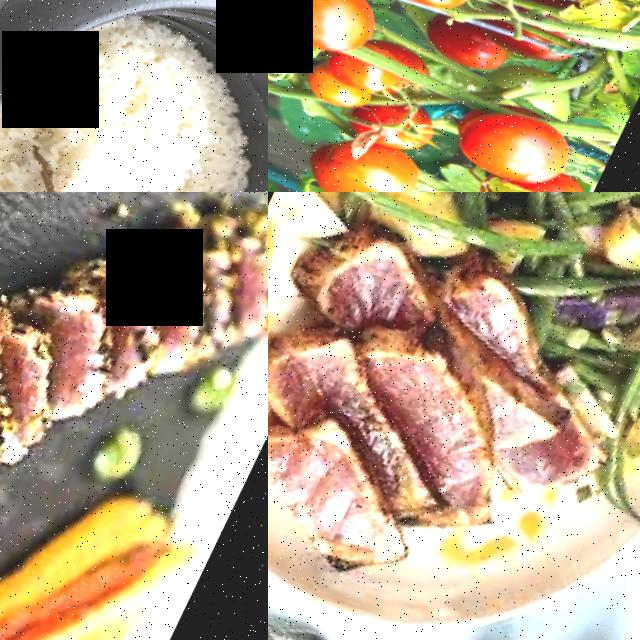tomato: (452, 97, 597, 192), (268, 0, 403, 74), (326, 129, 451, 192), (364, 0, 502, 28)
white rice: (0, 17, 237, 192), (101, 152, 251, 192)
